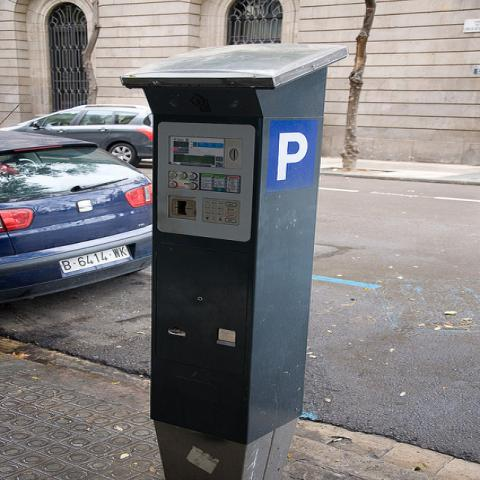car: (0, 129, 153, 305), (13, 105, 158, 166)
